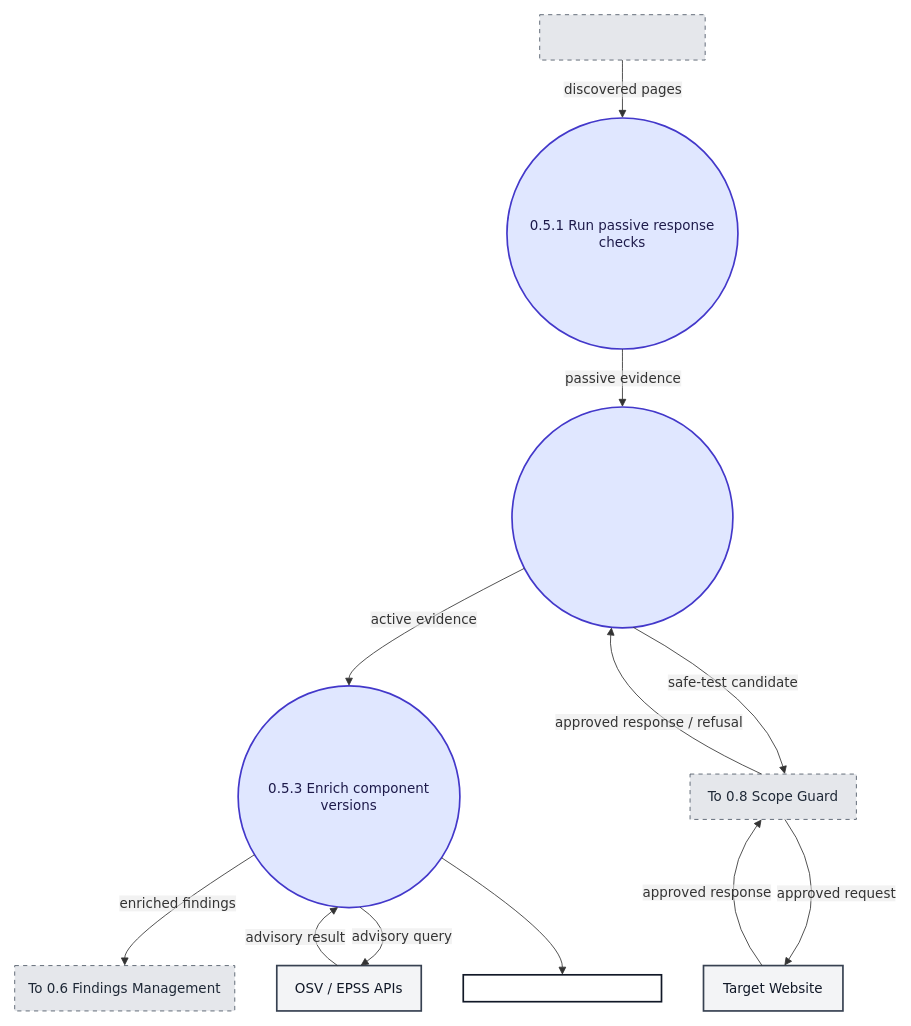
This 911x1026 diagram has some shape labels left out. Here are the shapes that lost their labels. From the top down, the centre of each, then its label:
At (x=622, y=37): "From 0.4 Discovery".
At (x=622, y=517): "0.5.2 Prepare safe active checks".
At (x=562, y=988): "D5 Findings, Triage & Evidence".
